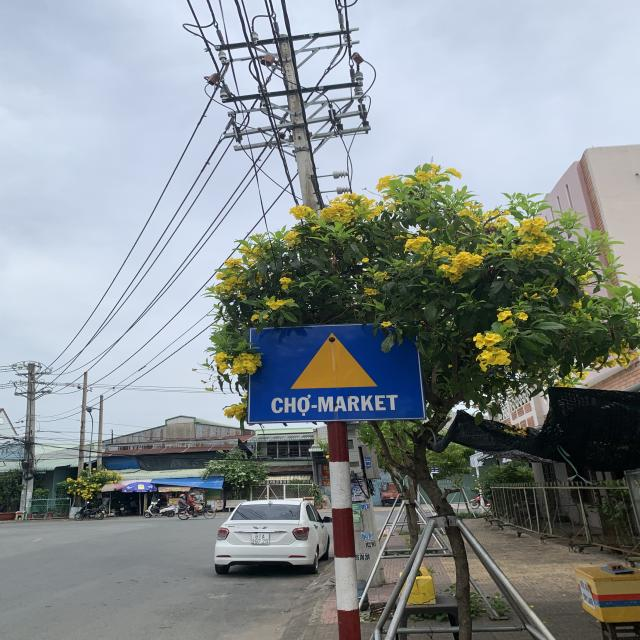Cho_Quay_Xe: (253, 328, 428, 422)
